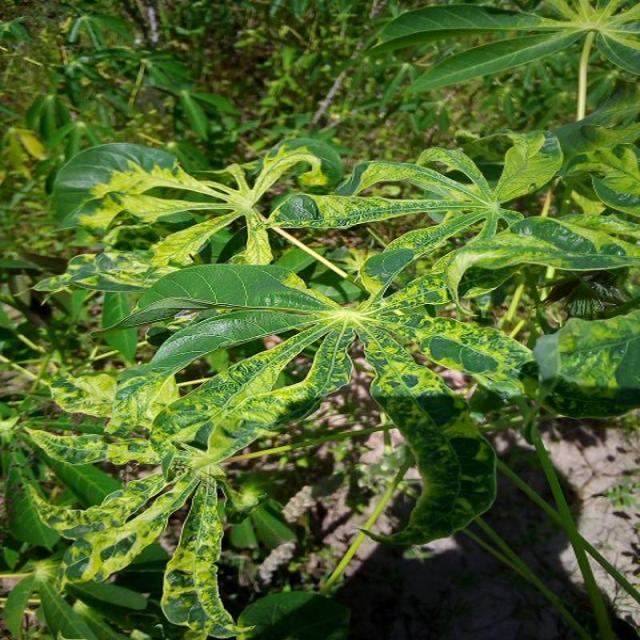cassava leaf: (19, 103, 638, 636)
